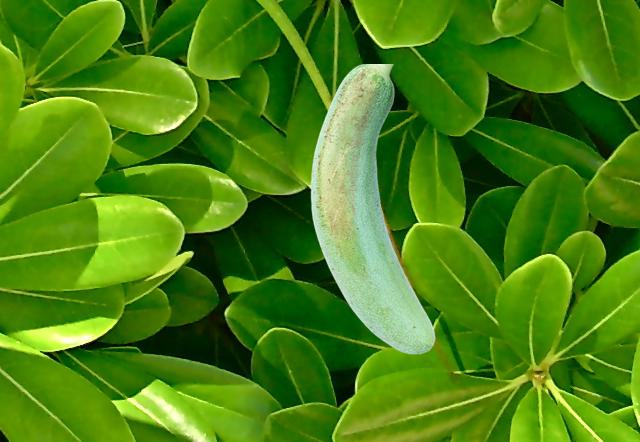cucumber: (310, 64, 434, 353)
